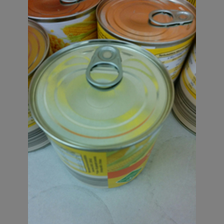corn: (29, 37, 174, 187)
